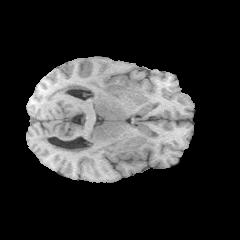glioma: (37, 80, 159, 156)
